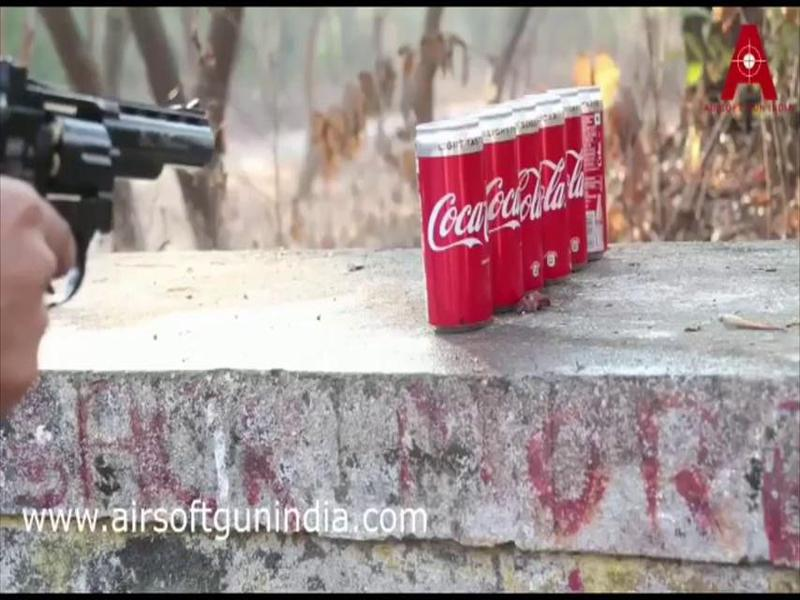Revolver: (1, 49, 236, 334)
